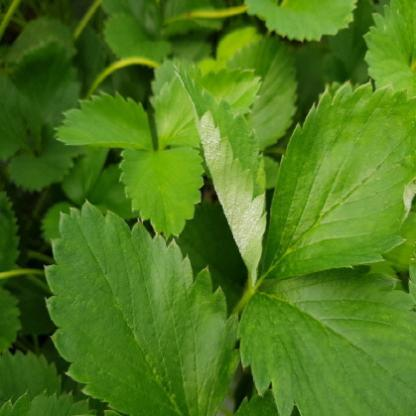Strawberry_Powdery_Mildew_Leaf: (259, 78, 415, 280), (172, 63, 268, 284)
